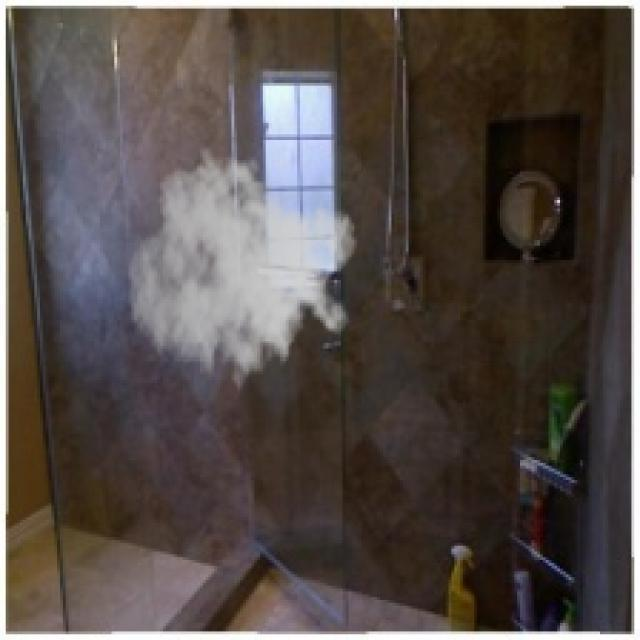Smoke: (126, 146, 360, 406)
